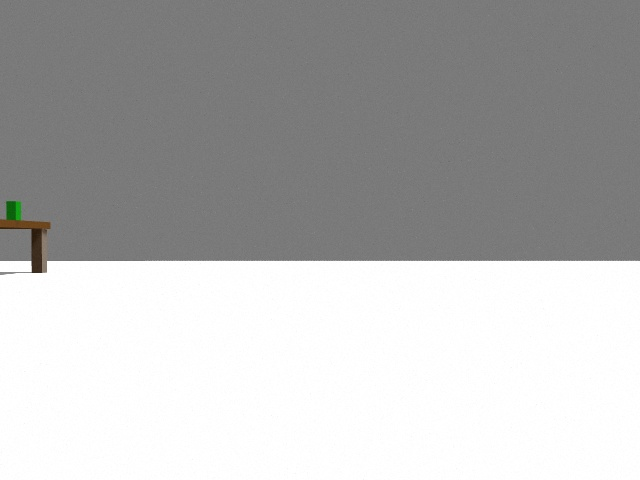green_cube: (6, 201, 21, 220)
